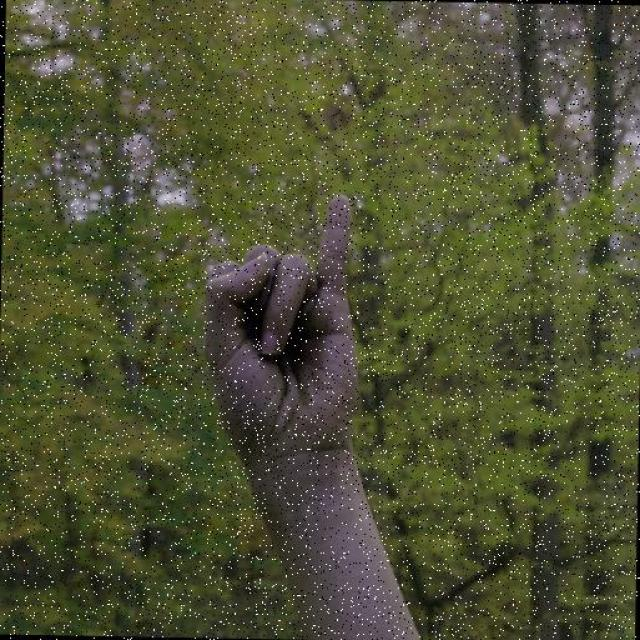I: (196, 187, 363, 462)
